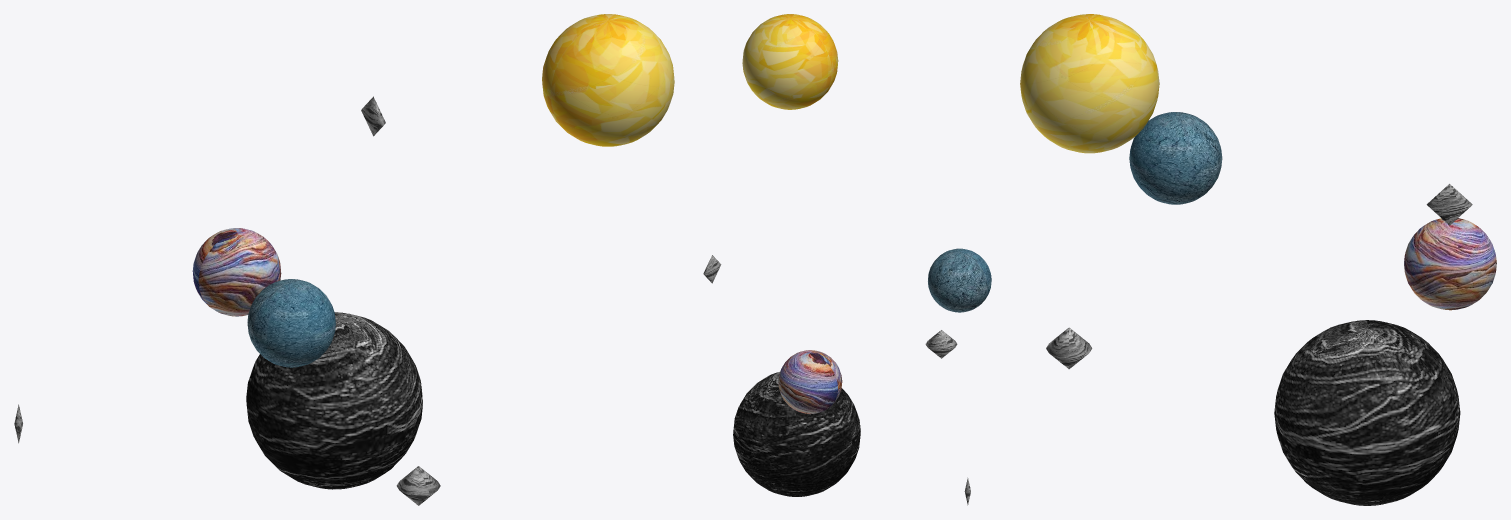
File: asset.gltf
3 renders of one model, left to right at view 1: azimuth 30°, elevation 25°; view 2: azimuth 150°, elevation 25°; view 3: azimuth 270°, elevation 25°, orthographic. The views are drawn at different scales.
Visible parts, largest first — view 1: Sphere (×4), Lathe; view 2: Sphere (×4), Lathe; view 3: Sphere (×4), Lathe (×2).
Boxes of the visible parts, bbox=[...] form: Sphere (×4): bbox=[192, 14, 674, 489]; Lathe: bbox=[396, 466, 440, 505]; Sphere (×4): bbox=[733, 14, 991, 496]; Lathe: bbox=[925, 330, 957, 358]; Sphere (×4): bbox=[1020, 14, 1496, 505]; Lathe (×2): bbox=[1046, 183, 1472, 369].
Size of the model in its own units: 12.48 by 13.03 by 10.25.
Materials: 7 (7 with a texture image).
